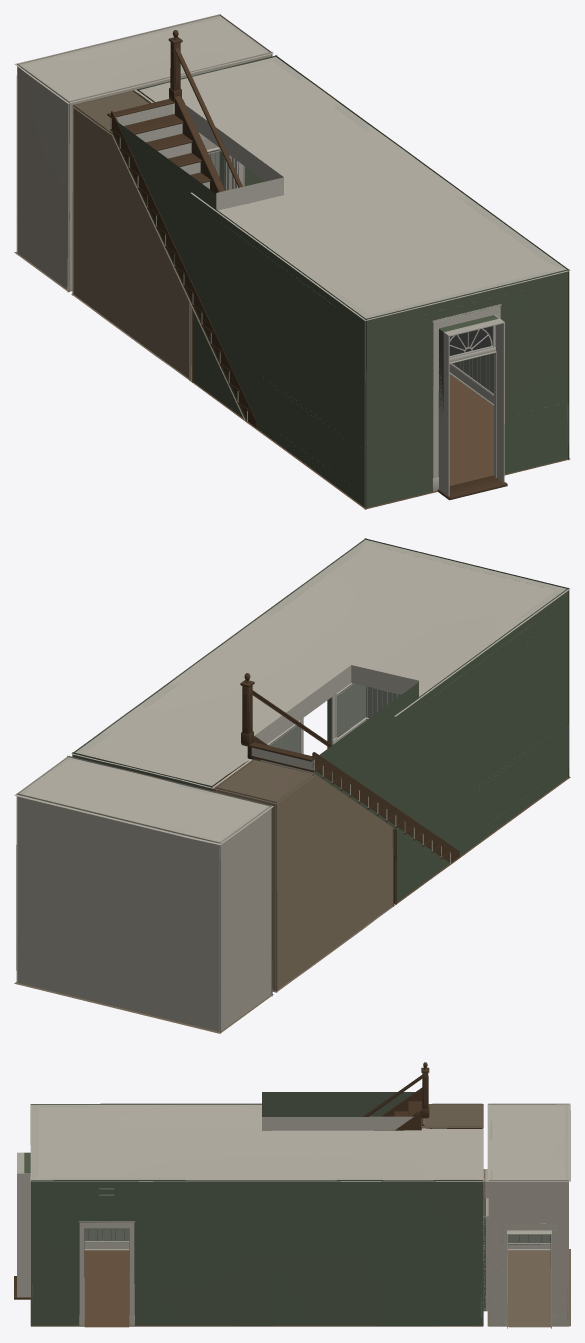
The model's file is house_ground.glb.
3 renders of one model, top to bottom at view 1: azimuth 30°, elevation 25°; view 2: azimuth 150°, elevation 25°; view 3: azimuth 270°, elevation 25°, orthographic. The views are drawn at different scales.
Visible parts, largest first — view 1: G1, G3P, CLOSET, G1_stair, G1_glass_O_FRONT; view 2: G1, G3P, CLOSET, G1_stair; view 3: G1, G3P, G1_stair, CLOSET.
Part boxes in pixels (bbox=[...]): G1: bbox=[109, 55, 570, 509]; G3P: bbox=[14, 14, 273, 292]; CLOSET: bbox=[71, 90, 191, 380]; G1_stair: bbox=[107, 30, 256, 428]; G1_glass_O_FRONT: bbox=[449, 326, 492, 355]; G1: bbox=[71, 538, 570, 904]; G3P: bbox=[14, 755, 273, 1033]; CLOSET: bbox=[214, 760, 394, 992]; G1_stair: bbox=[240, 673, 459, 865]; G1: bbox=[14, 1092, 485, 1327]; G3P: bbox=[483, 1103, 570, 1328]; G1_stair: bbox=[363, 1062, 429, 1130]; CLOSET: bbox=[422, 1103, 485, 1198].
Size of the model in its own units: 3.78 by 4.71 by 11.14.
